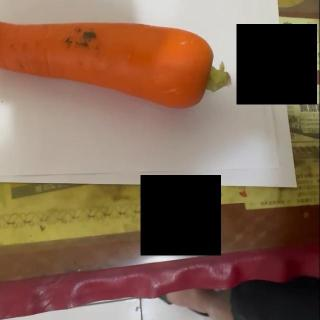carrot: (0, 18, 233, 110)
